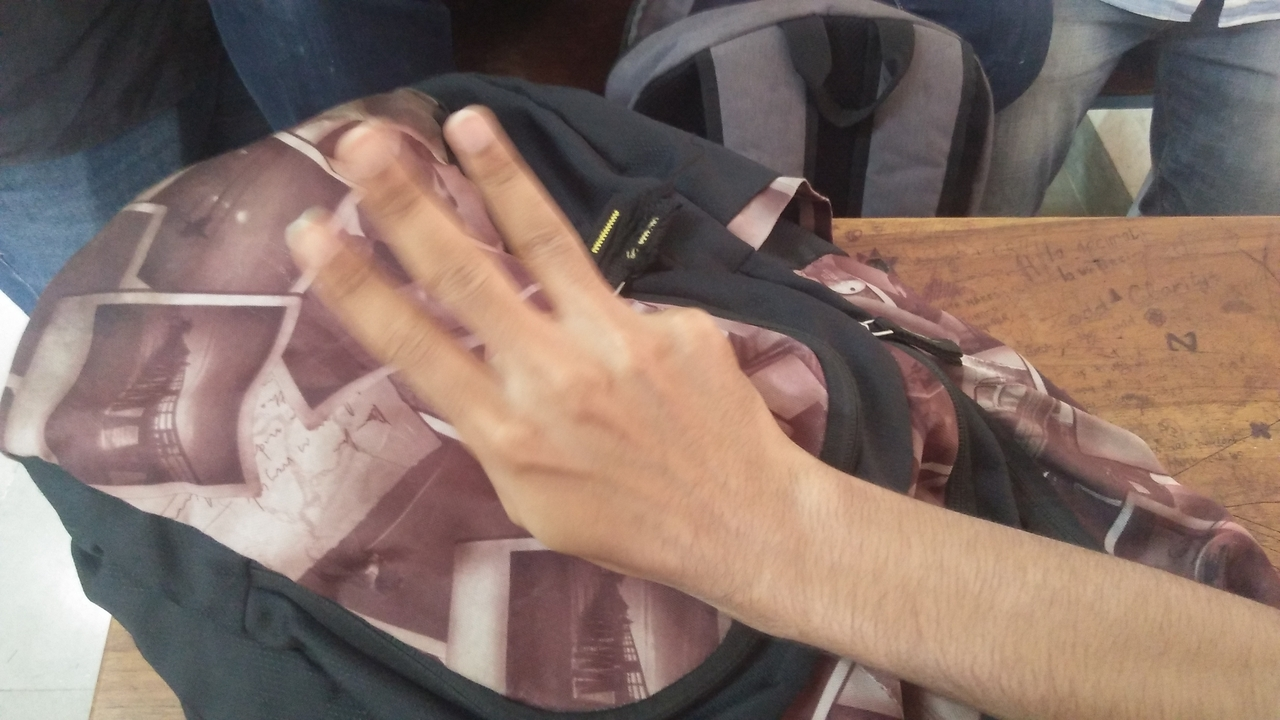fingertip: (434, 94, 504, 158), (267, 211, 336, 270), (334, 120, 389, 175)
